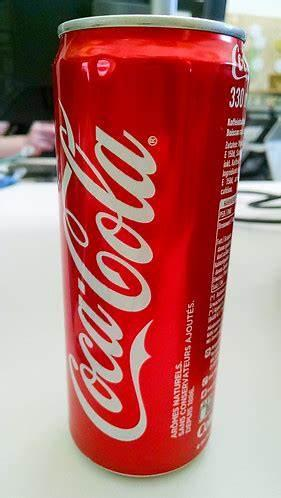metal: (54, 17, 249, 476)
